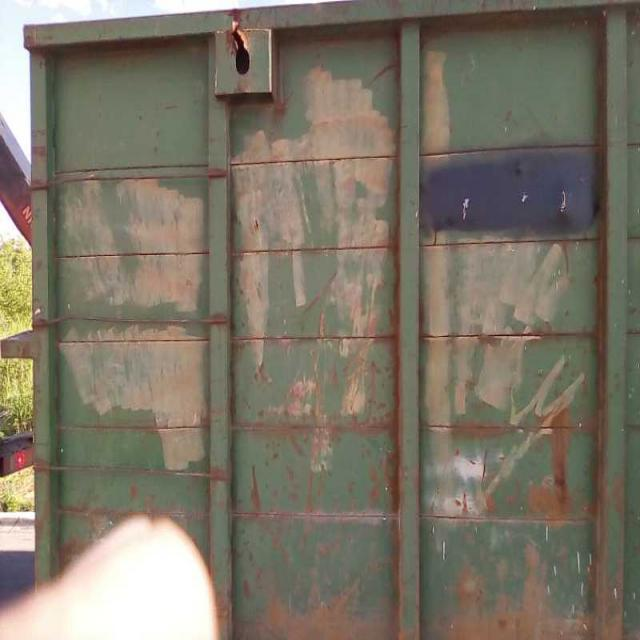Dumpster: (28, 1, 640, 637)
